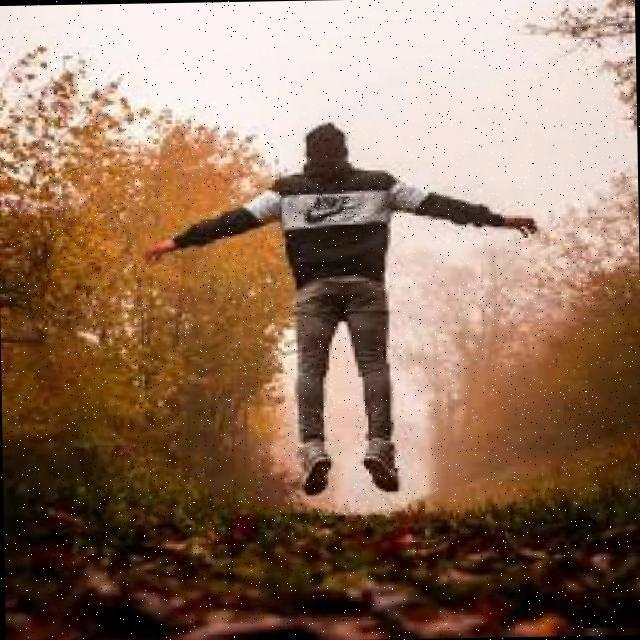Nike: (293, 189, 362, 223)
